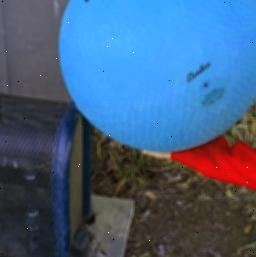algae: (53, 0, 256, 152)
